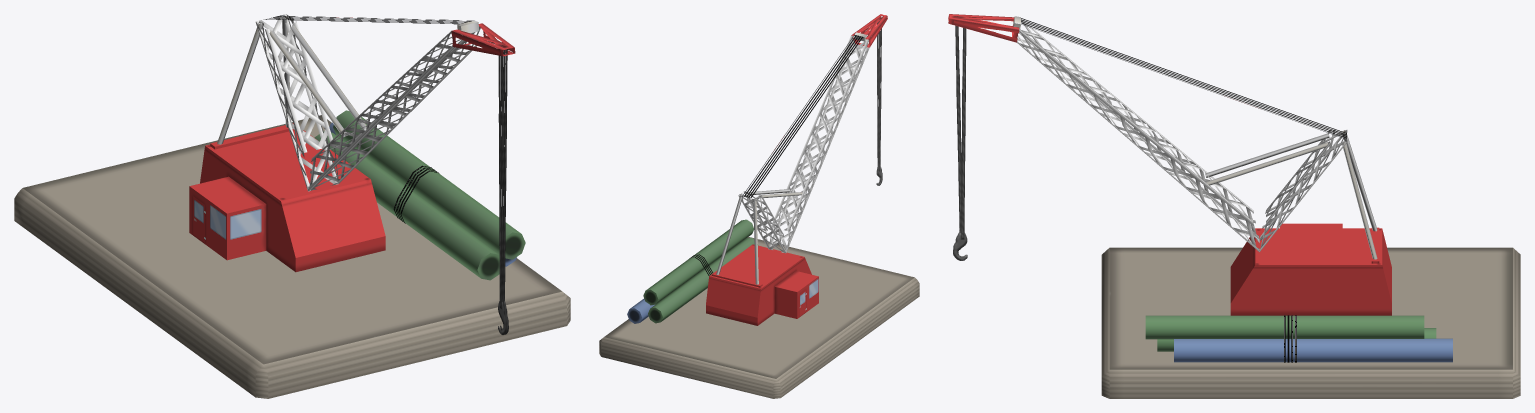
The model's file is Barge.fbx.
3 renders of one model, left to right at view 1: azimuth 30°, elevation 25°; view 2: azimuth 150°, elevation 25°; view 3: azimuth 270°, elevation 25°, orthographic. The views are drawn at different scales.
Parts seen in each view (by area): view 1: bargebarge, bargecran, bargetube; view 2: bargebarge, bargecran, bargetube; view 3: bargebarge, bargecran, bargetube.
Boxes of the visible parts, x1,y1,x2,y2 form: bargebarge: [14, 115, 570, 398]; bargecran: [189, 14, 515, 334]; bargetube: [314, 110, 525, 280]; bargebarge: [599, 237, 919, 398]; bargecran: [706, 14, 887, 325]; bargetube: [627, 219, 758, 323]; bargebarge: [1101, 247, 1520, 398]; bargecran: [948, 14, 1391, 315]; bargetube: [1145, 315, 1452, 362].
Bounding box in the file's own units: 700 × 808 × 1318.
Materials: 1 (1 with a texture image).
